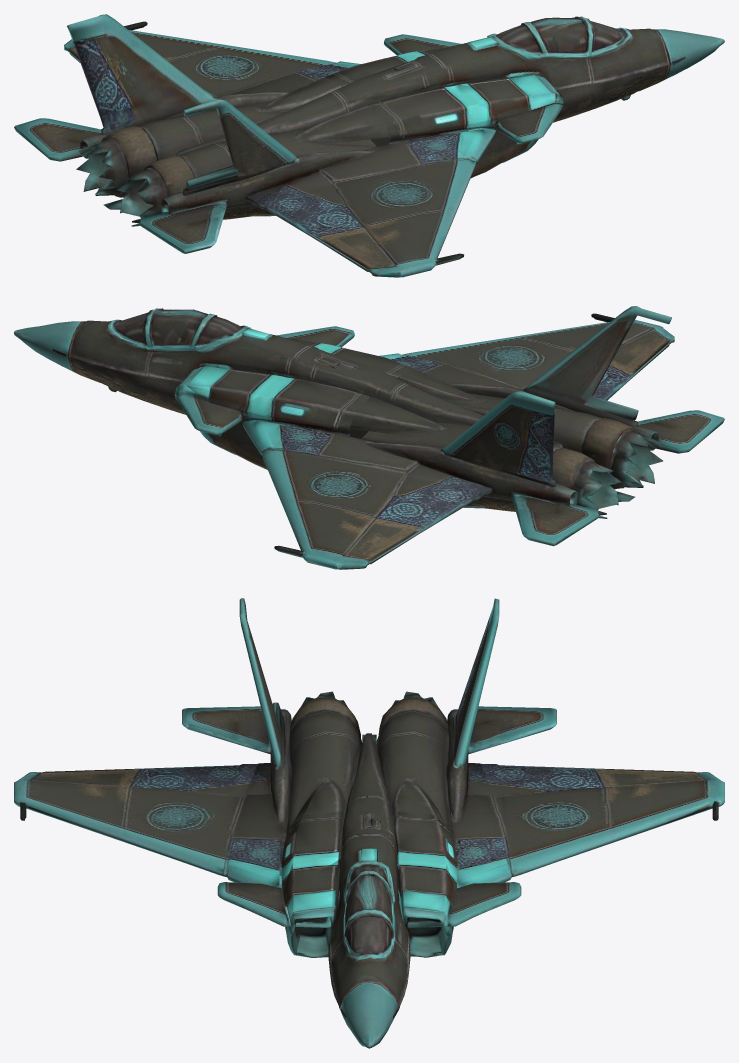
Rendered from cyan_gunship.glb.
3 views of the same model, one above another, from view 1: azimuth 30°, elevation 25°; view 2: azimuth 150°, elevation 25°; view 3: azimuth 270°, elevation 25° (orthographic). The views are drawn at different scales.
Visible parts, largest first — view 1: Body, Trim; view 2: Body, Trim; view 3: Body, Trim.
Boxes of the visible parts, x1,y1,x2,y2 form: Body: [14, 14, 724, 277]; Trim: [187, 30, 592, 277]; Body: [14, 306, 724, 569]; Trim: [112, 321, 528, 567]; Body: [14, 598, 724, 1048]; Trim: [182, 711, 724, 957].
Size of the model in its own units: 14 by 3.59 by 12.52.
2 materials, 2 textured.
